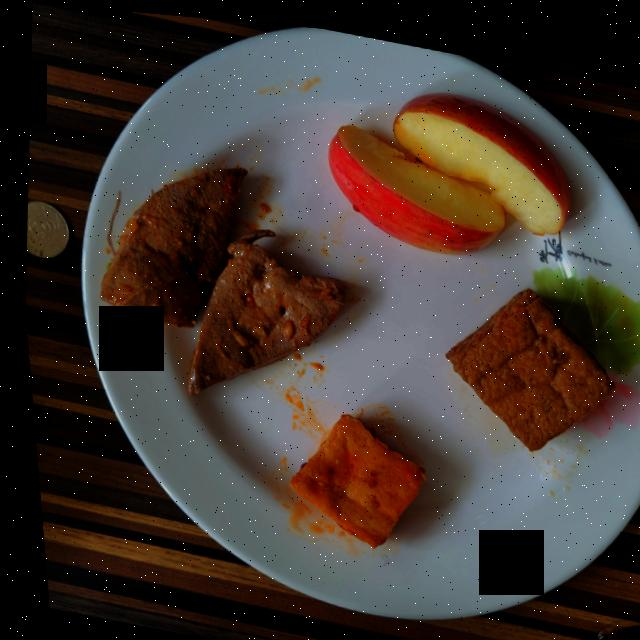apple -sliced-: (326, 84, 567, 245)
coin: (22, 199, 65, 257)
creamy tofu: (282, 407, 417, 540)
egg tofu: (440, 278, 610, 440)
pig liver: (96, 162, 341, 390)
